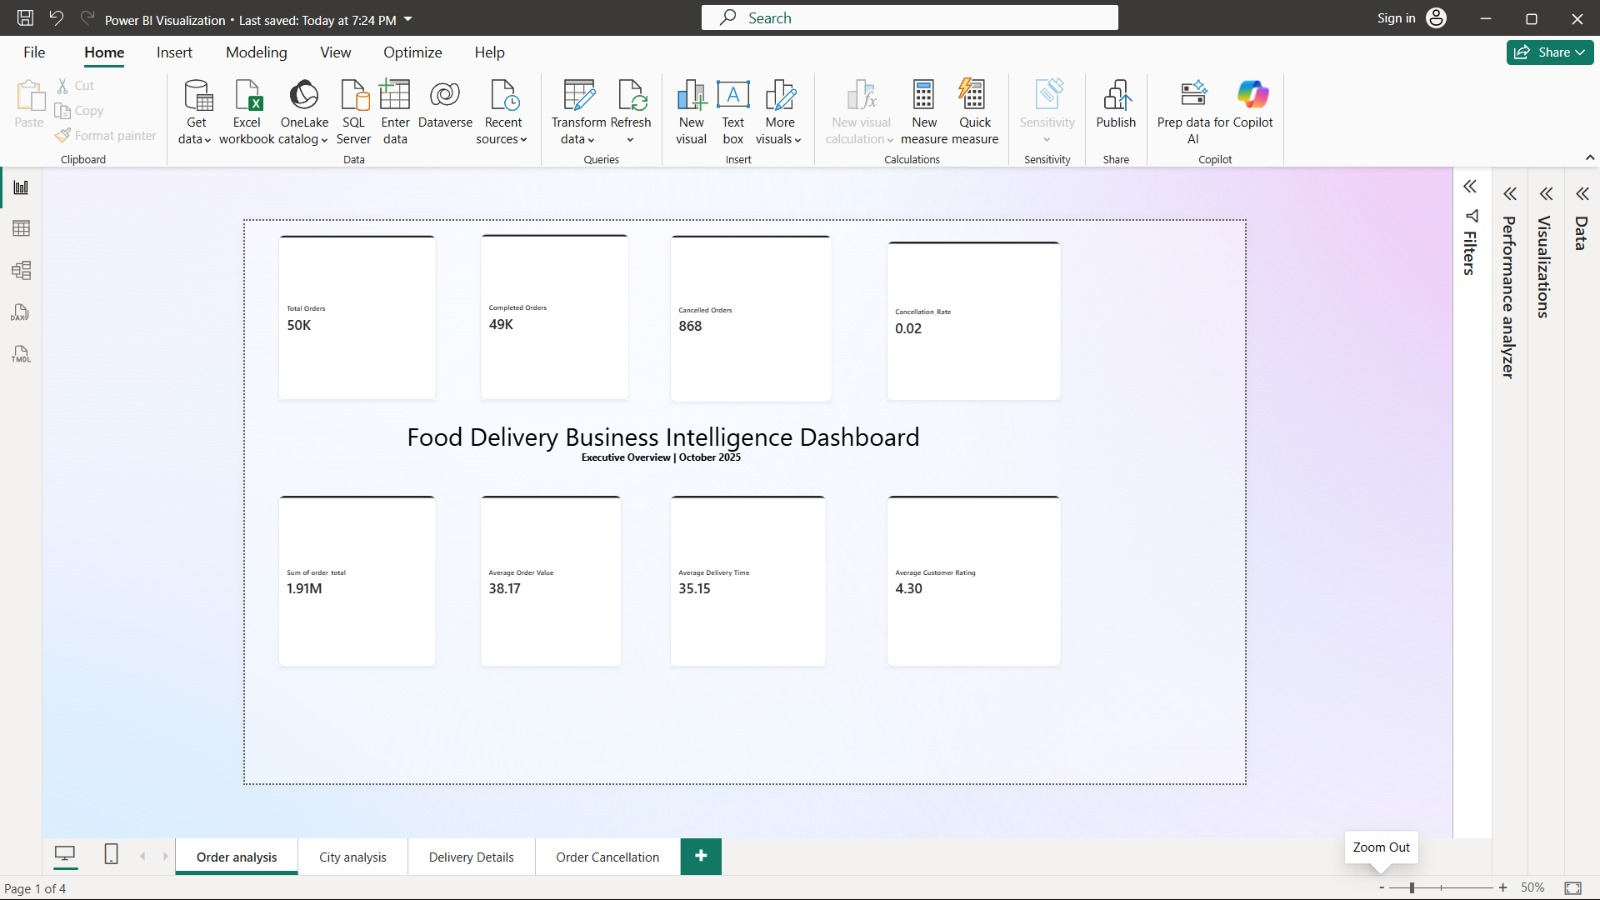

This screenshot's page, from the dashboard's own definition file:
{"tool":"powerbi","page":{"name":"Order analysis","canvas":[1920,1080],"ordinal":0},"visuals":[{"type":"cardVisual","fields":{"Data":["Sum(Main_Sheet.order_total)"]},"box":[63.3,528.3,303.3,328.3],"z":0},{"type":"cardVisual","fields":{"Data":["Main_Sheet.Completed Orders"]},"box":[451.7,26.7,285,318.3],"z":1000},{"type":"cardVisual","fields":{"Data":["Main_Sheet.Cancelled Orders"]},"box":[815,28.3,311.7,320],"z":2000},{"type":"cardVisual","fields":{"Data":["Main_Sheet.Total Orders"]},"box":[63.3,28.3,303.3,316.7],"z":3000},{"type":"cardVisual","fields":{"Data":["Main_Sheet.Average Customer Rating"]},"box":[1231.7,528.3,335,328.3],"z":4000},{"type":"cardVisual","fields":{"Data":["Main_Sheet.Average Delivery Time"]},"box":[815,528.3,300,328.3],"z":5000},{"type":"cardVisual","fields":{"Data":["Main_Sheet.Cancellation_Rate"]},"box":[1231.7,40,335,305],"z":6000},{"type":"cardVisual","fields":{"Data":["Main_Sheet.Average Order Value"]},"box":[451.7,528.3,271.7,328.3],"z":7000},{"type":"textbox","box":[62.9,380,1482.9,118.6],"z":8000},{"type":"textbox","box":[282.9,440,1034.3,74.3],"z":9000}]}

Visuals, with their boxes on the page's 1920x1080 design canvas (x1, y1, x2, y2). These are canvas units, not pixel positions in the 1600x900 screenshot, which may show the page scaled, cropped or inside an application window:
cardVisual - Sum(Main_Sheet.order_total): region(63, 528, 367, 857)
cardVisual - Main_Sheet.Completed Orders: region(452, 27, 737, 345)
cardVisual - Main_Sheet.Cancelled Orders: region(815, 28, 1127, 348)
cardVisual - Main_Sheet.Total Orders: region(63, 28, 367, 345)
cardVisual - Main_Sheet.Average Customer Rating: region(1232, 528, 1567, 857)
cardVisual - Main_Sheet.Average Delivery Time: region(815, 528, 1115, 857)
cardVisual - Main_Sheet.Cancellation_Rate: region(1232, 40, 1567, 345)
cardVisual - Main_Sheet.Average Order Value: region(452, 528, 723, 857)
textbox: region(63, 380, 1546, 499)
textbox: region(283, 440, 1317, 514)
